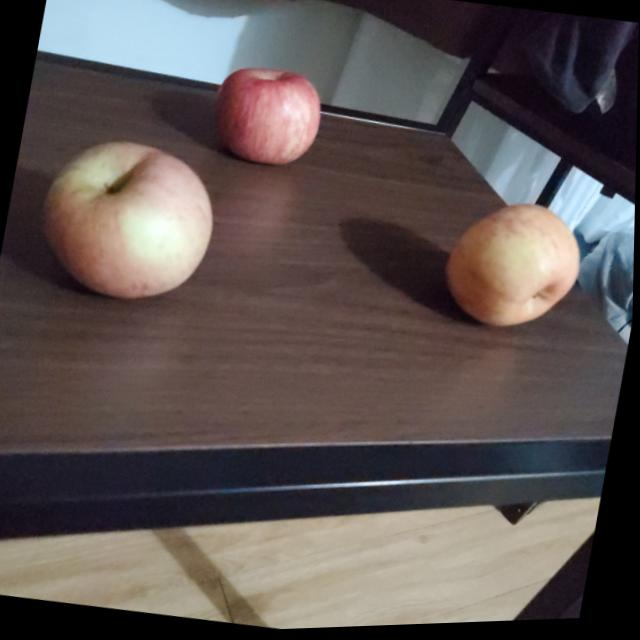apple: (35, 134, 227, 318), (440, 198, 592, 344), (211, 64, 331, 175)
